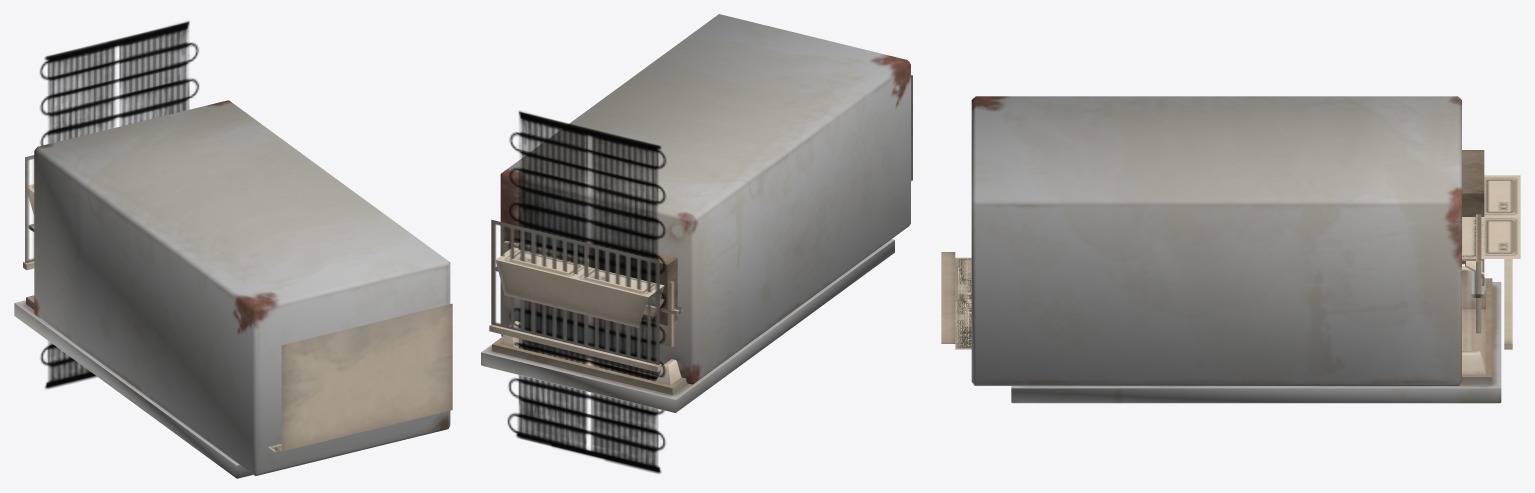
The model's file is old-fridge-6b2862.glb.
3 views of the same model, side by side, from view 1: azimuth 30°, elevation 25°; view 2: azimuth 150°, elevation 25°; view 3: azimuth 270°, elevation 25° (orthographic). The views are drawn at different scales.
Parts seen in each view (by area): view 1: PropMesh; view 2: PropMesh; view 3: PropMesh.
Boxes of the visible parts, x1,y1,x2,y2 form: PropMesh: (14, 21, 452, 478); PropMesh: (481, 14, 912, 473); PropMesh: (941, 96, 1520, 403).
Bounding box in the file's own units: 1.34 × 2.2 × 3.08.
Materials: 2 (2 with a texture image).
